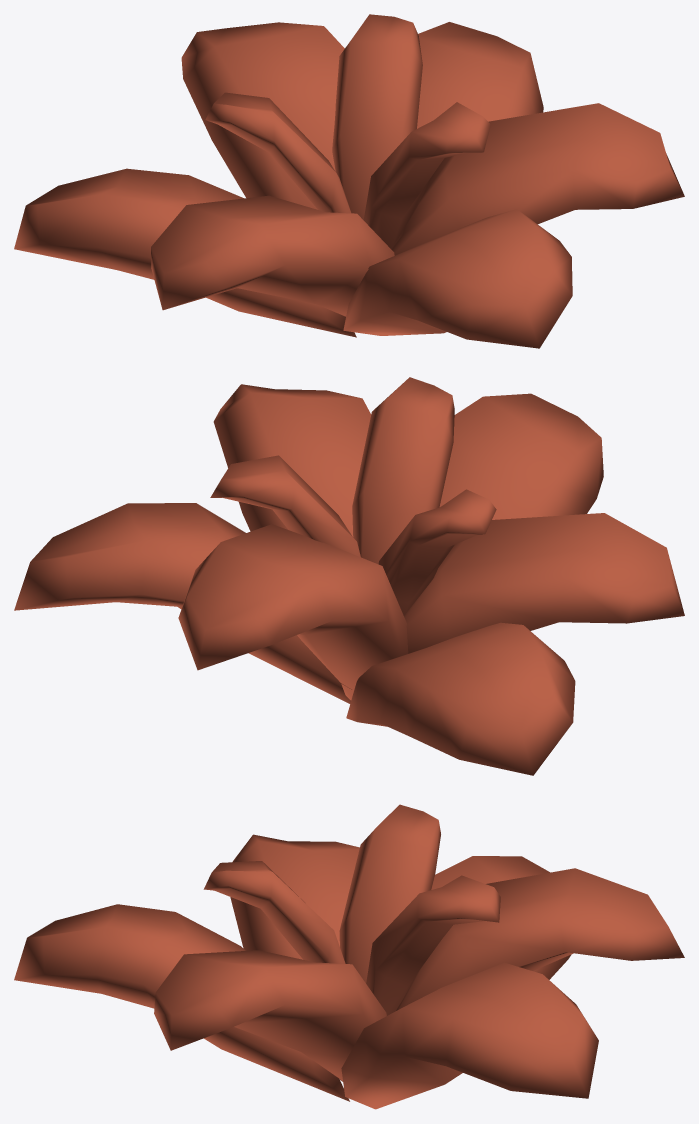
Rendered from Plant_C_03_LOD2.gltf.
3 renders of one model, top to bottom at view 1: azimuth 30°, elevation 25°; view 2: azimuth 150°, elevation 25°; view 3: azimuth 270°, elevation 25°, orthographic. The views are drawn at different scales.
Visible parts, largest first — view 1: Plant_C_03_LOD2_Cube.703; view 2: Plant_C_03_LOD2_Cube.703; view 3: Plant_C_03_LOD2_Cube.703.
Boxes of the visible parts, x1=… form: Plant_C_03_LOD2_Cube.703: x1=14, y1=14, x2=684, y2=348; Plant_C_03_LOD2_Cube.703: x1=14, y1=377, x2=684, y2=775; Plant_C_03_LOD2_Cube.703: x1=14, y1=804, x2=684, y2=1109.
Bounding box in the file's own units: 6.03 × 3.03 × 7.22.
1 material, 1 textured.
